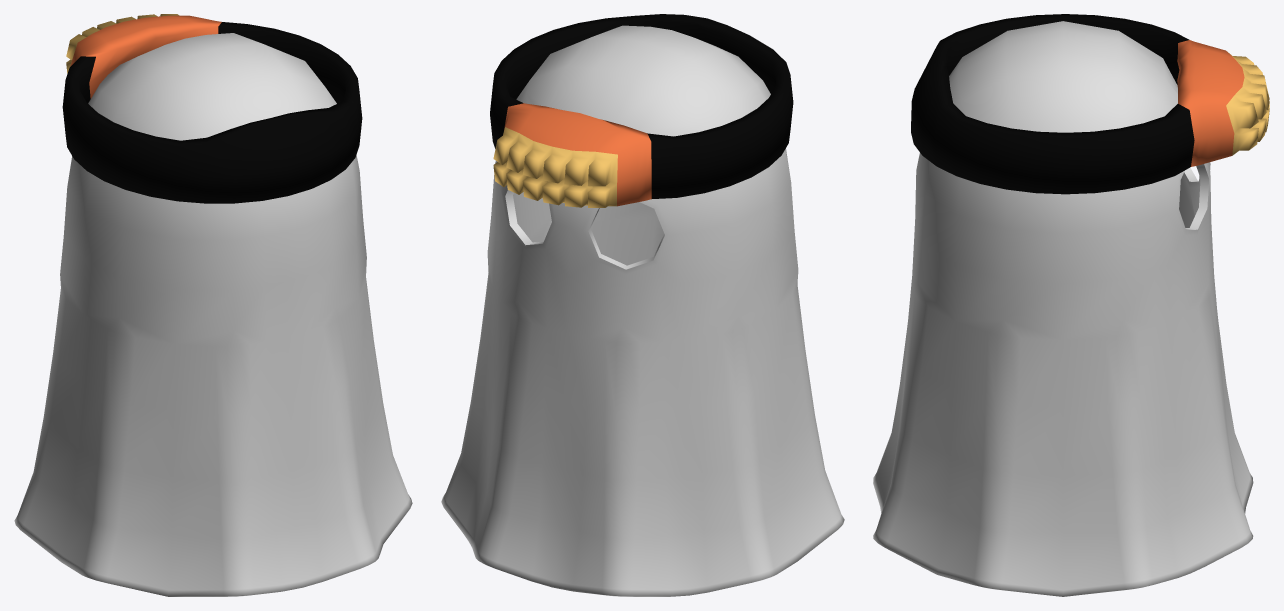
The model's file is ghost3.fbx.
3 renders of one model, left to right at view 1: azimuth 30°, elevation 25°; view 2: azimuth 150°, elevation 25°; view 3: azimuth 270°, elevation 25°, orthographic.
Visible parts, largest first — view 1: Cube, Sphere; view 2: Cube, Sphere; view 3: Cube, Sphere.
Part boxes in pixels (x1,y1,x2,y2): Cube: (14,33,412,596); Sphere: (62,14,362,203); Cube: (441,25,844,596); Sphere: (490,14,793,207); Cube: (873,21,1253,596); Sphere: (911,14,1269,194).
Bounding box in the file's own units: 214 × 302 × 223.
